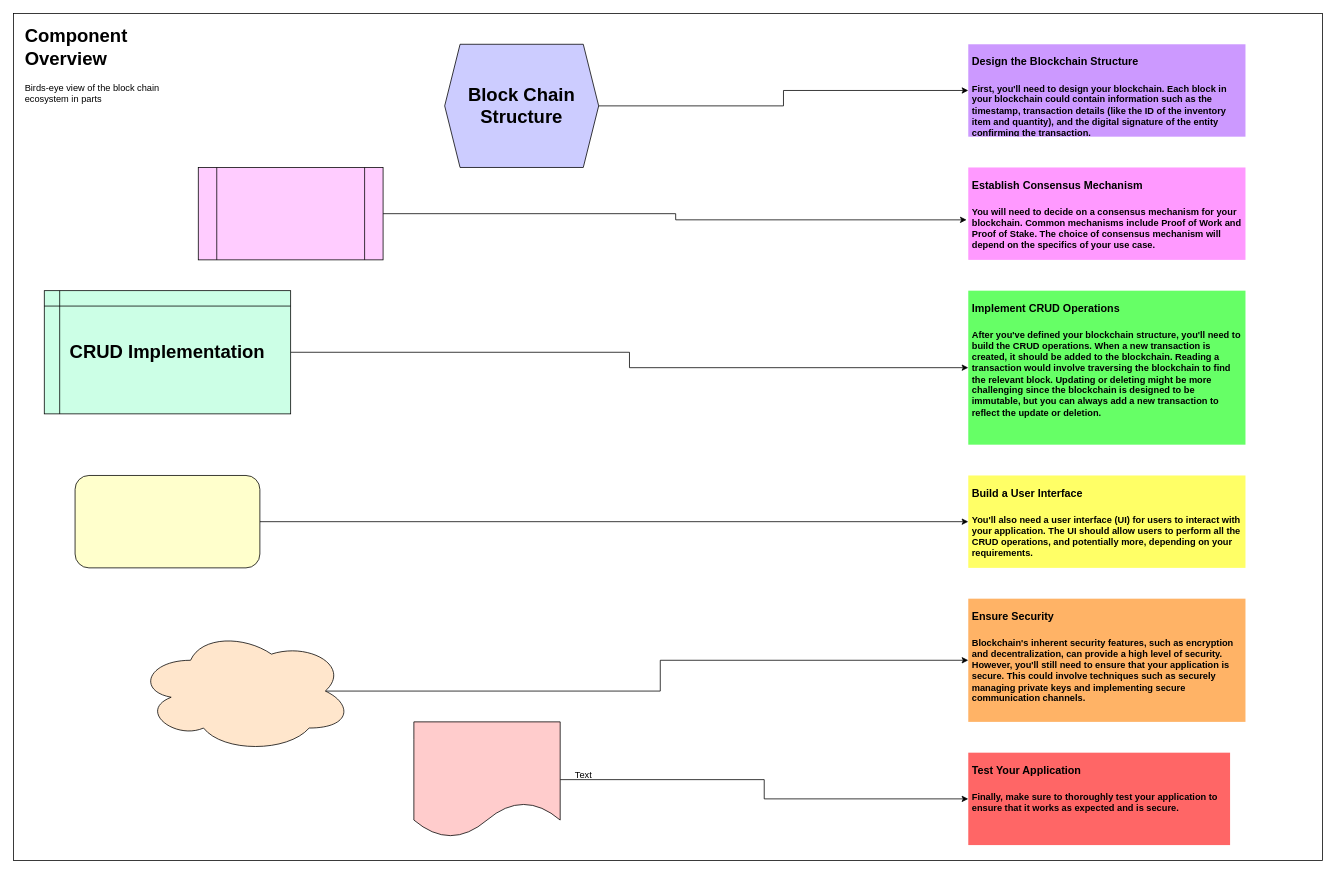
Some shapes in this 1336 by 874 pixel diagram are drawn without their labels. The shapes that lost their labels are listed below. From the top down, each one's box as (x1, y1, x2, y2) in pixels, then its label:
(198, 167, 383, 260): Consensus Mechanism
(74, 475, 260, 568): UI
(136, 629, 352, 753): Security
(413, 721, 560, 837): Tests
